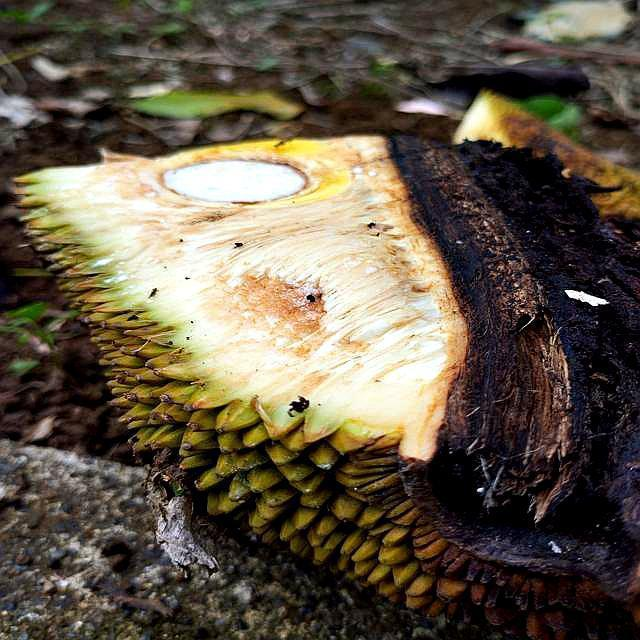Biodegradable: (121, 129, 640, 599)
